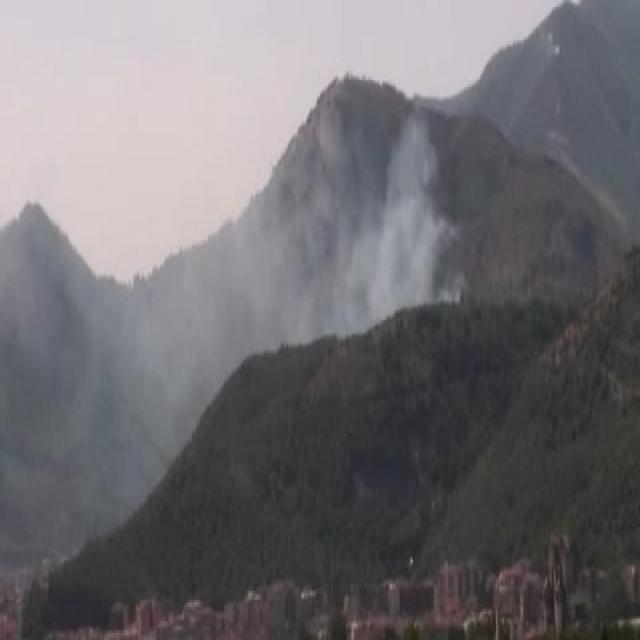smoke: (256, 114, 445, 342), (36, 278, 195, 452)
